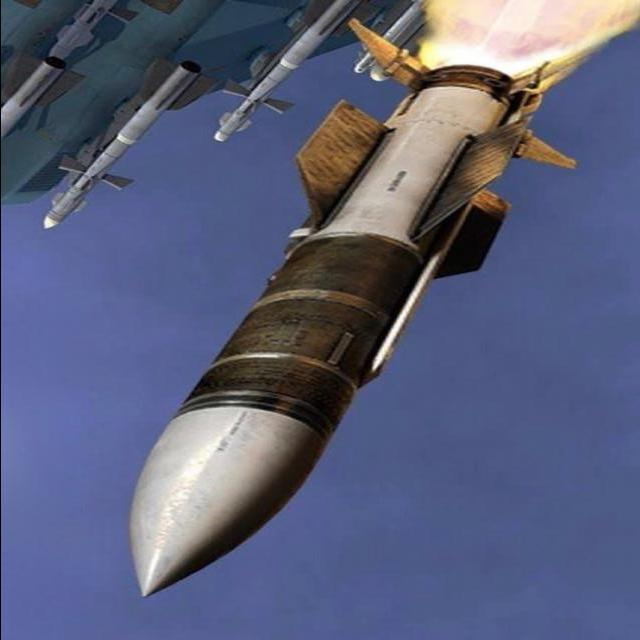Missile: (123, 90, 520, 628)
